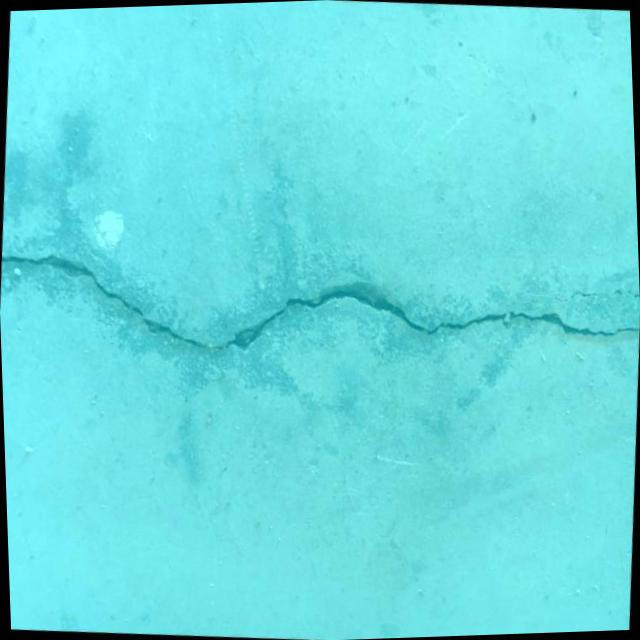crack: (0, 230, 640, 389), (535, 284, 640, 310)
